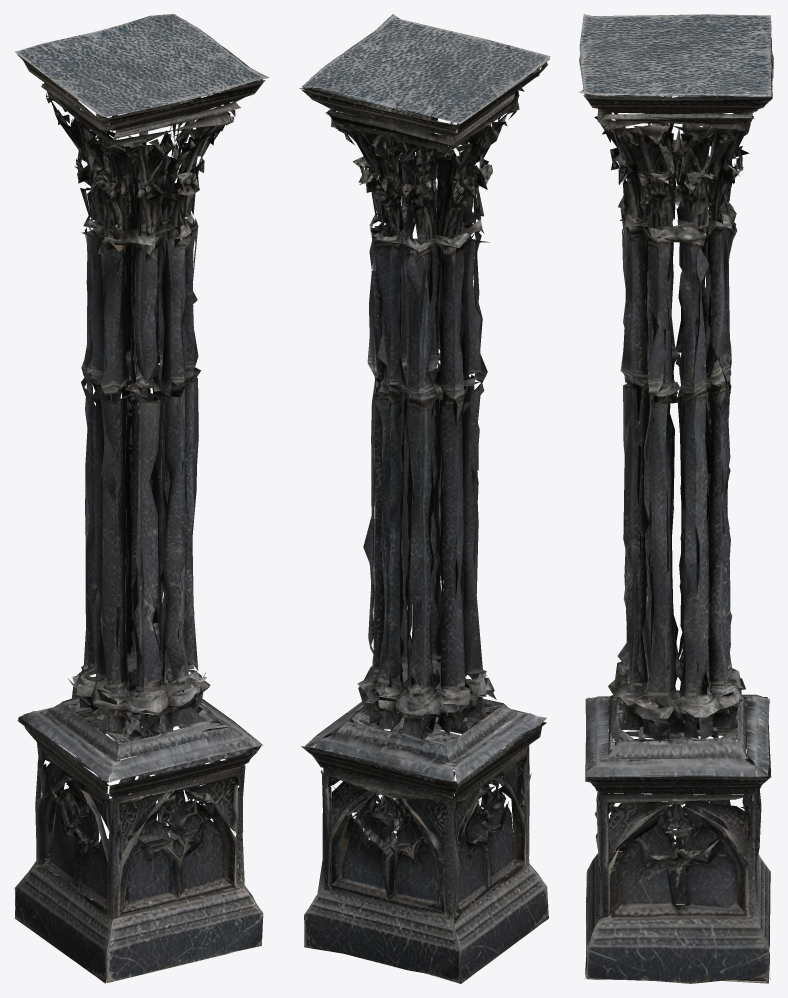
Rendered from Column.fbx.
3 renders of one model, left to right at view 1: azimuth 30°, elevation 25°; view 2: azimuth 150°, elevation 25°; view 3: azimuth 270°, elevation 25°, orthographic. The views are drawn at different scales.
Visible parts, largest first — view 1: Column; view 2: Column; view 3: Column.
Boxes of the visible parts, x1=… form: Column: x1=14, y1=14, x2=269, y2=983; Column: x1=299, y1=14, x2=550, y2=983; Column: x1=579, y1=14, x2=773, y2=983.
Bounding box in the file's own units: 20.02 × 100 × 19.87.
1 material, 1 textured.
